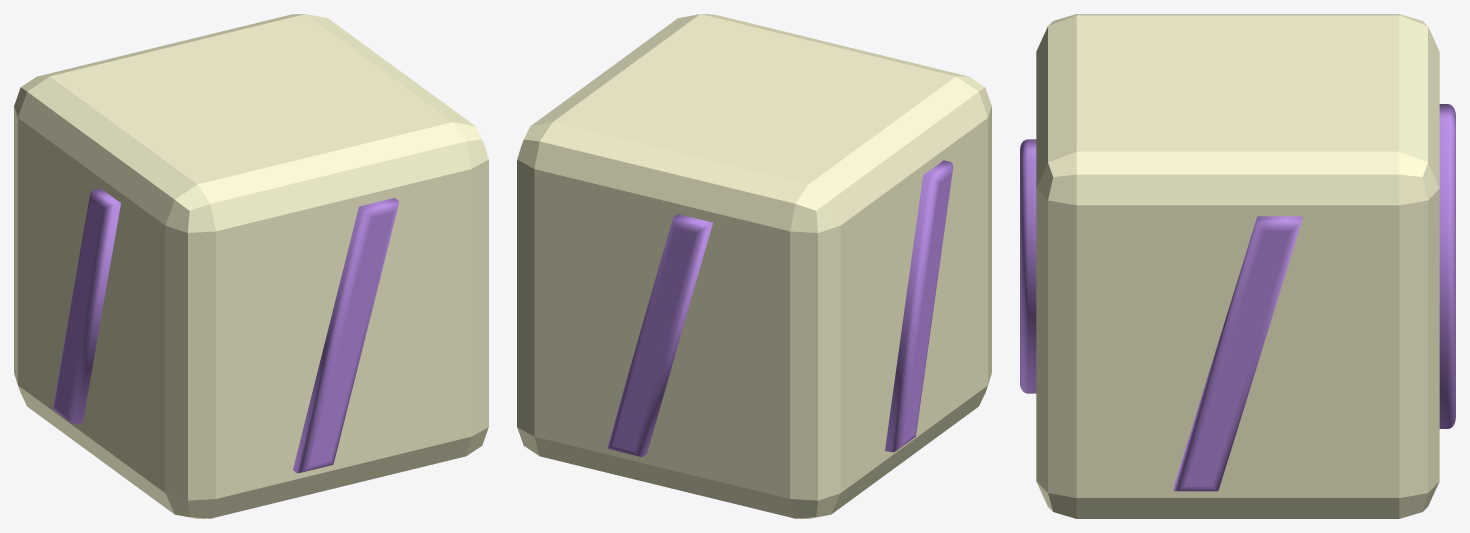
Rendered from division.fbx.
3 renders of one model, left to right at view 1: azimuth 30°, elevation 25°; view 2: azimuth 150°, elevation 25°; view 3: azimuth 270°, elevation 25°, orthographic. The views are drawn at different scales.
Parts seen in each view (by area): view 1: /; view 2: /; view 3: /.
Part boxes in pixels (bbox=[...]): /: bbox=[14, 14, 488, 518]; /: bbox=[517, 14, 991, 518]; /: bbox=[1020, 14, 1455, 518].
Size of the model in its own units: 216 by 200 by 216.
